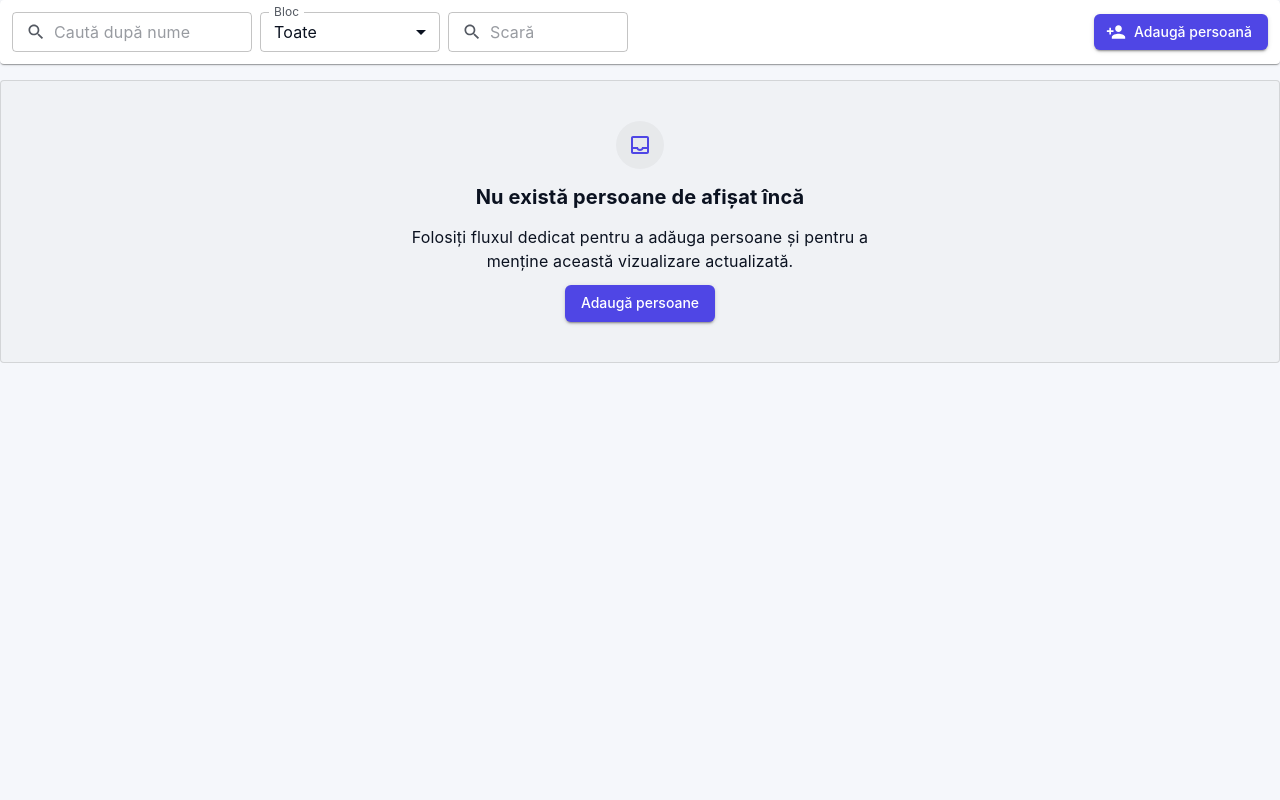
Test case: Persons and external censor appointments › offers unassigned person creation without housing in Romanian in light mode
Click the button "Adaugă persoană": (1181, 32) [1094,14,1268,50]
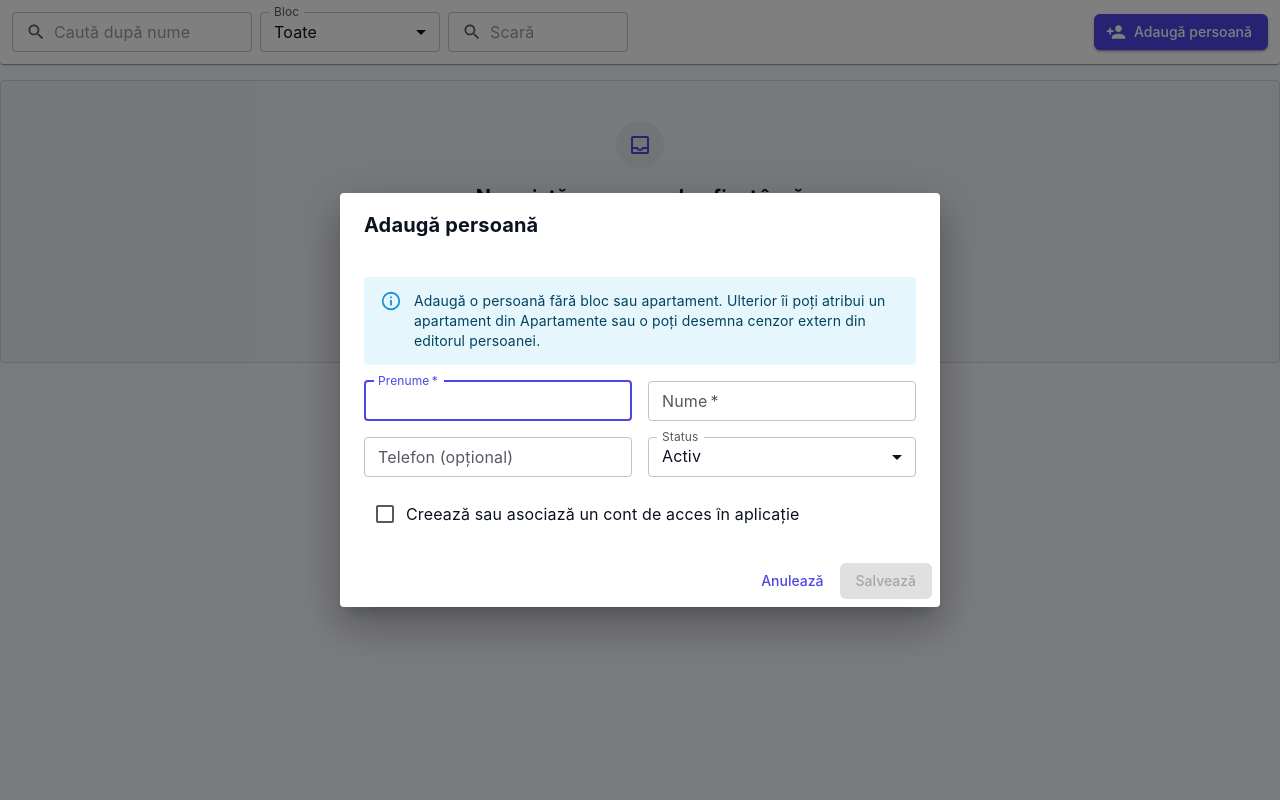
Expected: the field labelled "Prenume *" is shown, [364,381,632,421]
Expected: the text "fără bloc sau apartament" is shown, [414,292,886,349]
